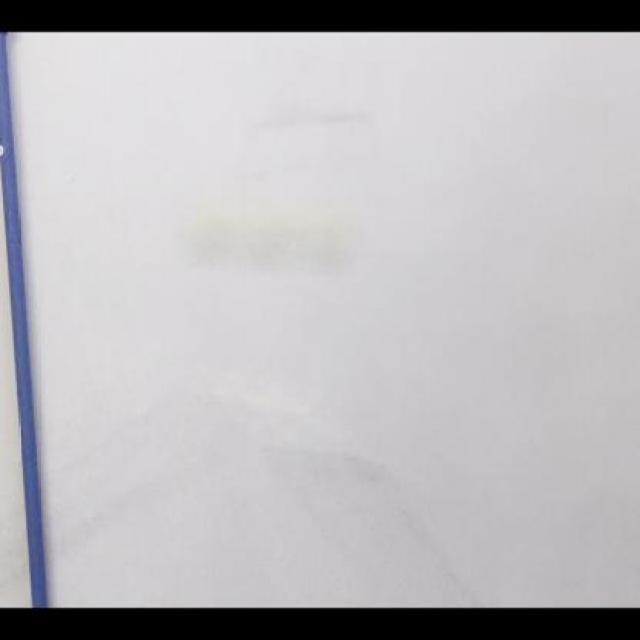baseball: (190, 206, 352, 268)
